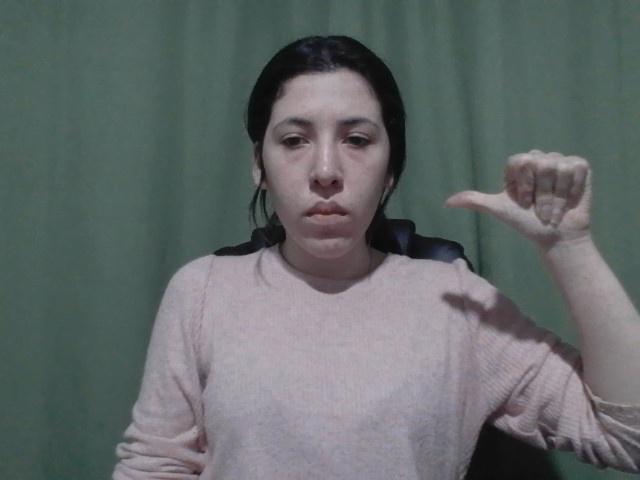CHAU: (440, 142, 619, 237)
